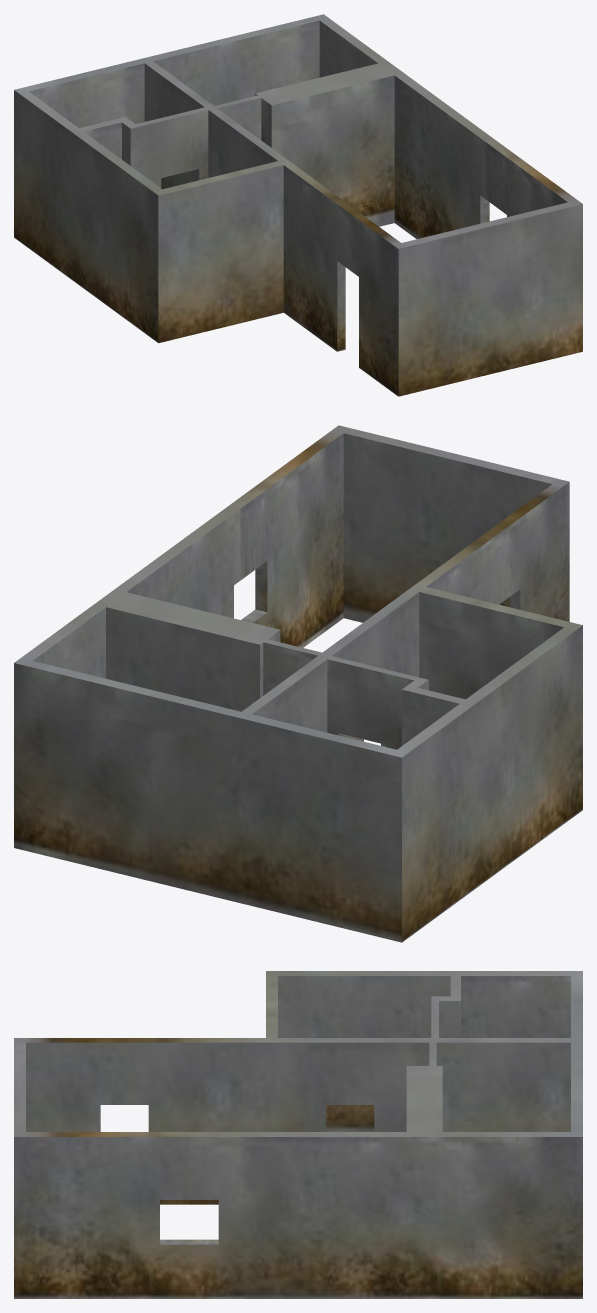
File: apartment_grayblock.FBX
The picture shows the model from 3 angles, top to bottom: view 1: azimuth 30°, elevation 25°; view 2: azimuth 150°, elevation 25°; view 3: azimuth 270°, elevation 25°; orthographic projection. The views are drawn at different scales.
Parts seen in each view (by area): view 1: walls; view 2: walls; view 3: walls.
Part boxes in pixels (bbox=[...]): walls: bbox=[14, 14, 582, 396]; walls: bbox=[14, 425, 582, 942]; walls: bbox=[14, 971, 582, 1298].
Size of the model in its own units: 614 by 280 by 889.
